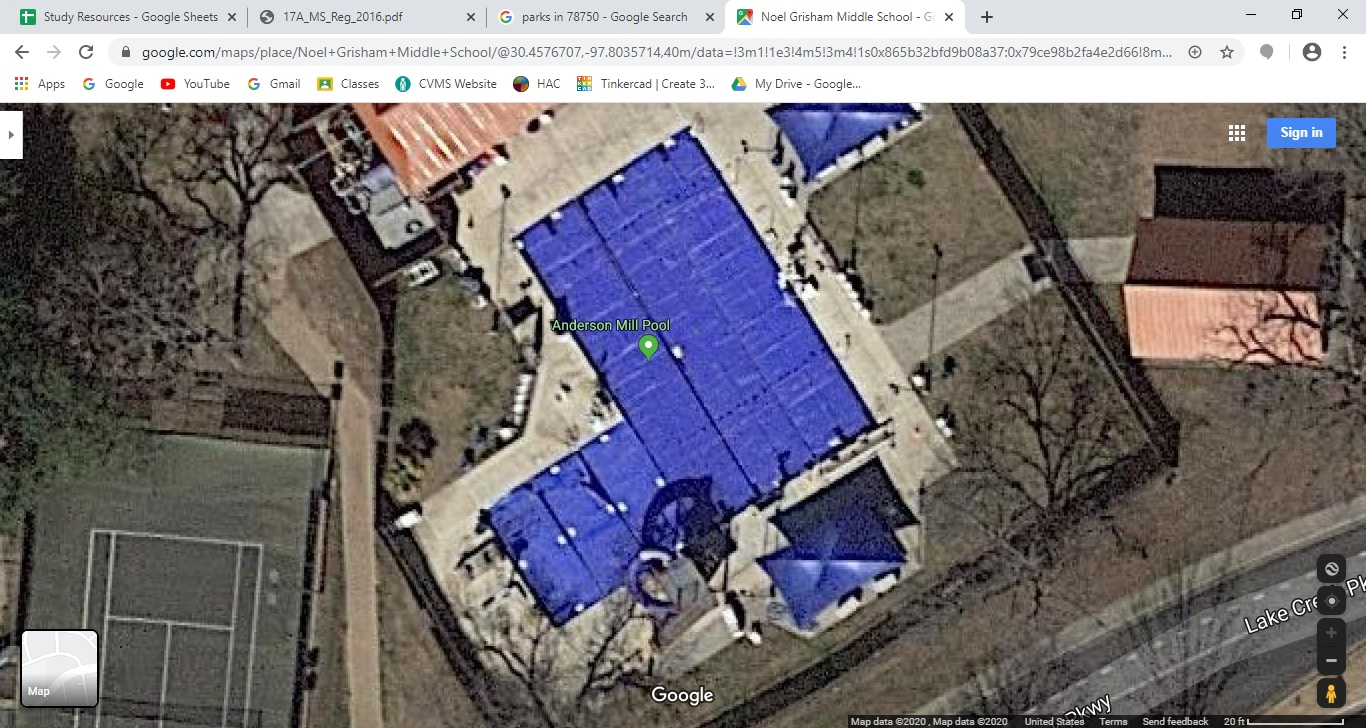pool: (425, 145, 895, 574)
